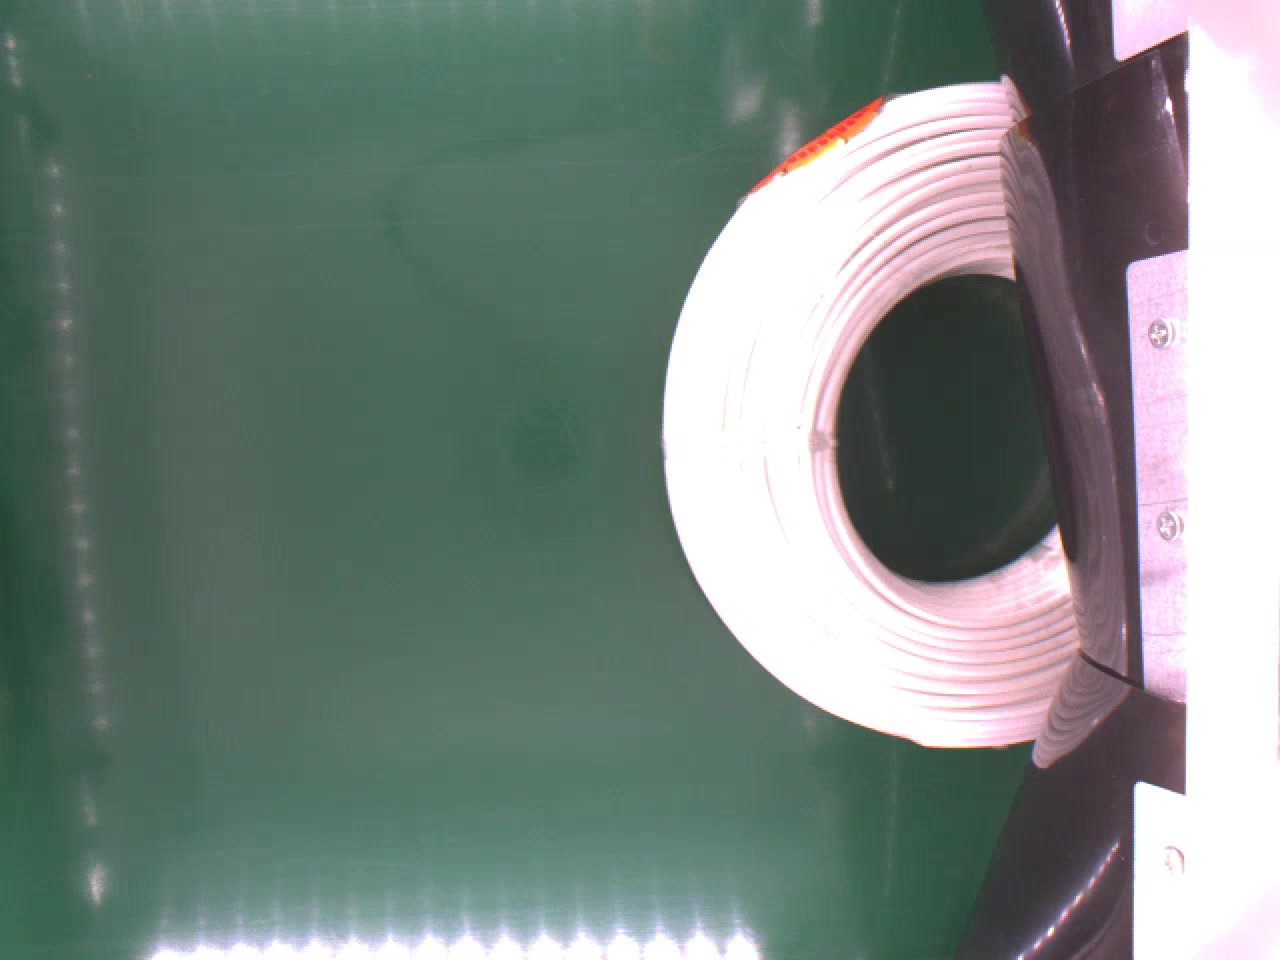white: (660, 77, 1093, 753)
